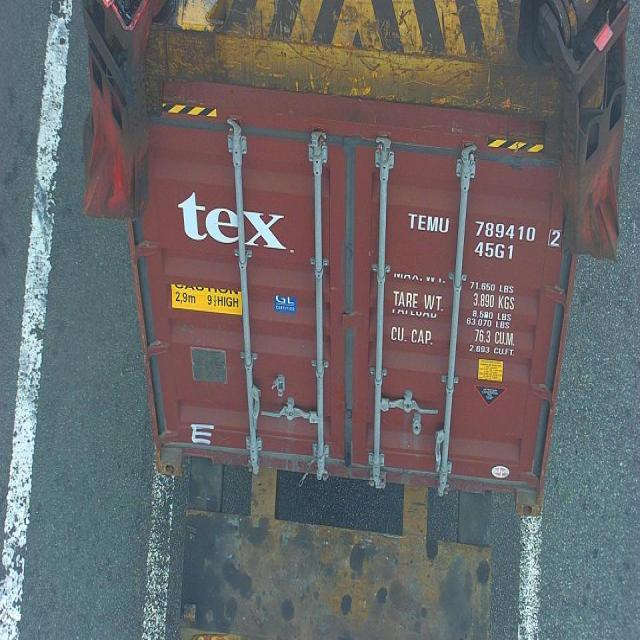ISO: (475, 242, 516, 260)
container_number: (404, 204, 564, 250)
